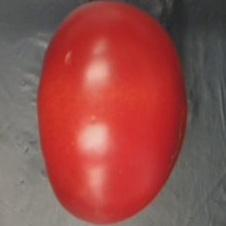unripe: (33, 0, 191, 226)
